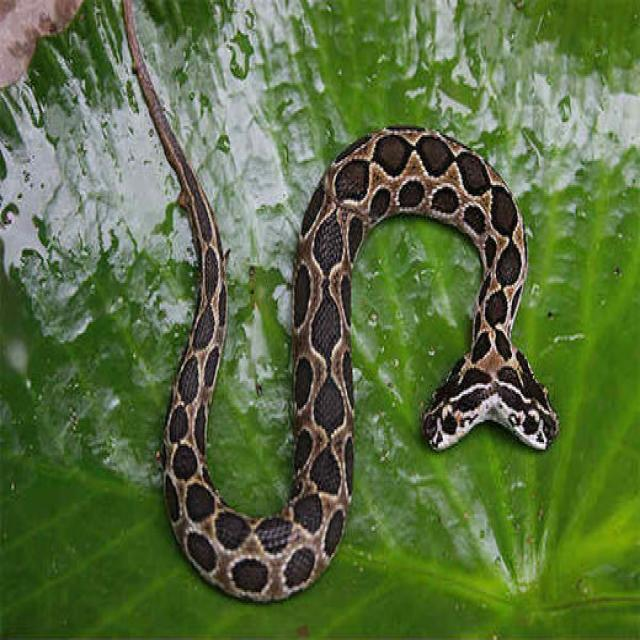Snake: (118, 0, 560, 603)
